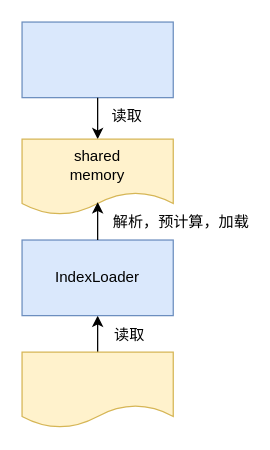
Some shapes in this 270 by 450 pixel diagram are drawn without their labels. Each missing label, with the box of its shape:
index data: (21, 351, 173, 428)
Service: (21, 21, 173, 98)
